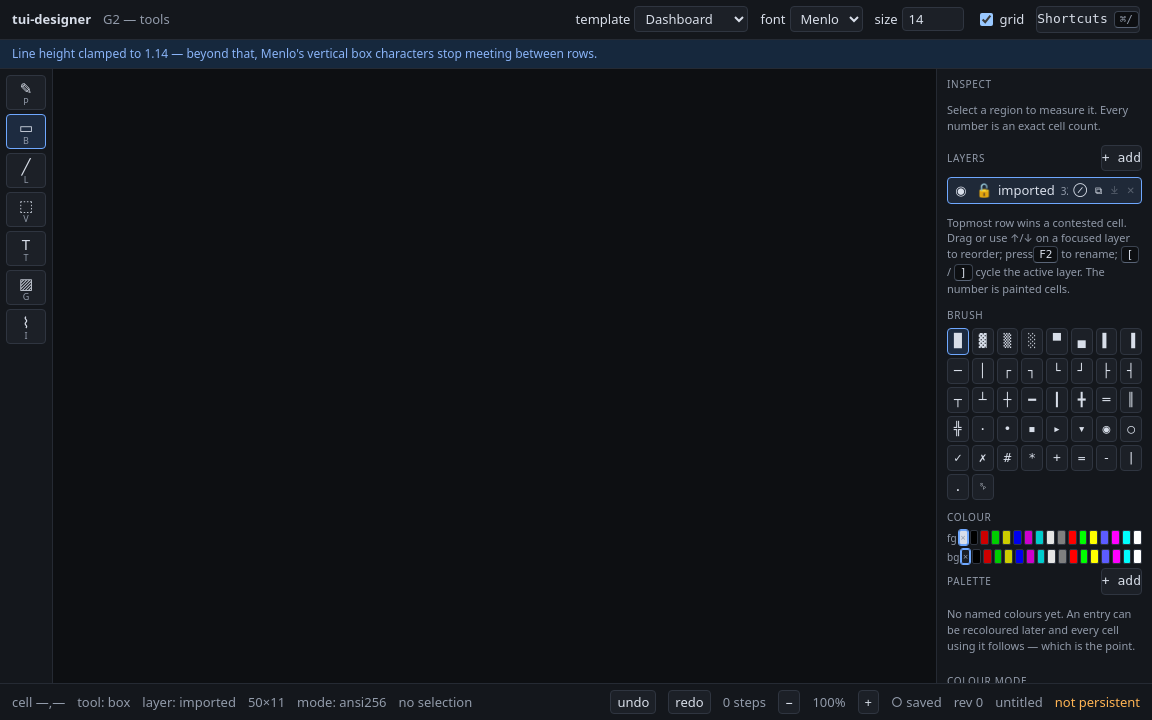
Test: App component boundary › opens generated searchable command help with current availability
Click the button with aria-label "Keyboard shortcuts (⌘/)" at (1088, 19), box [1036,6,1140,32]
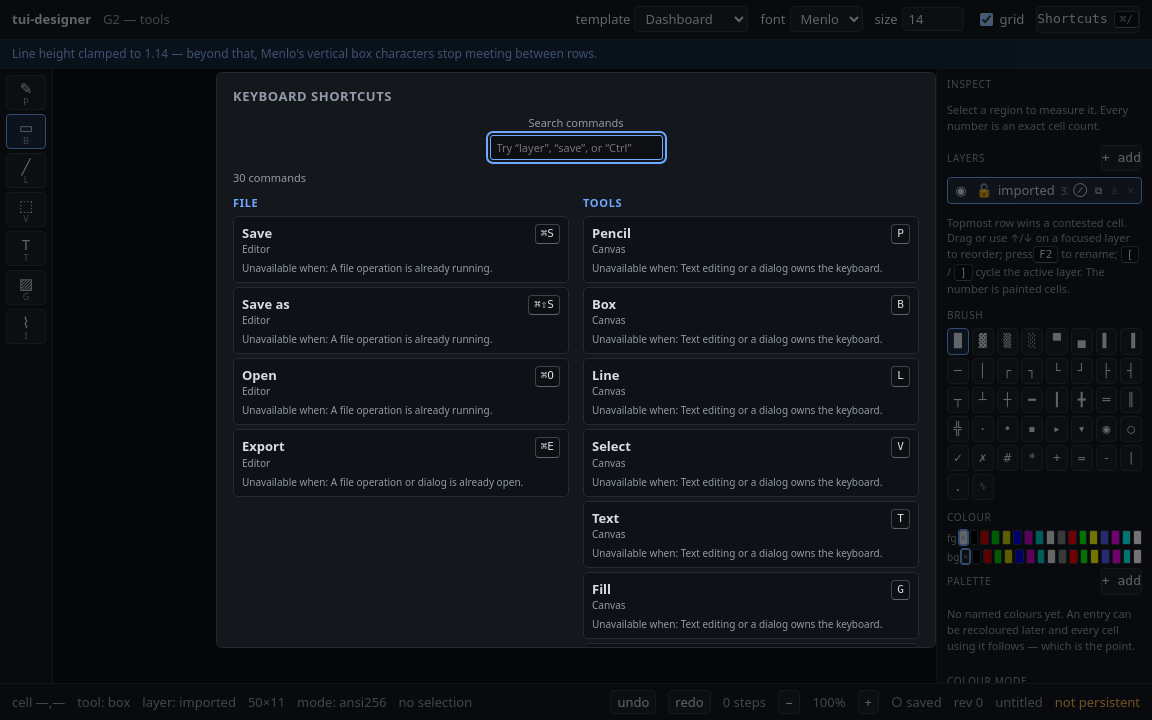
Result: the text "Save" is shown at [242,224,272,242]
Type "layer" into the search field labelled "Search commands" at (576, 147), box [490,135,662,160]
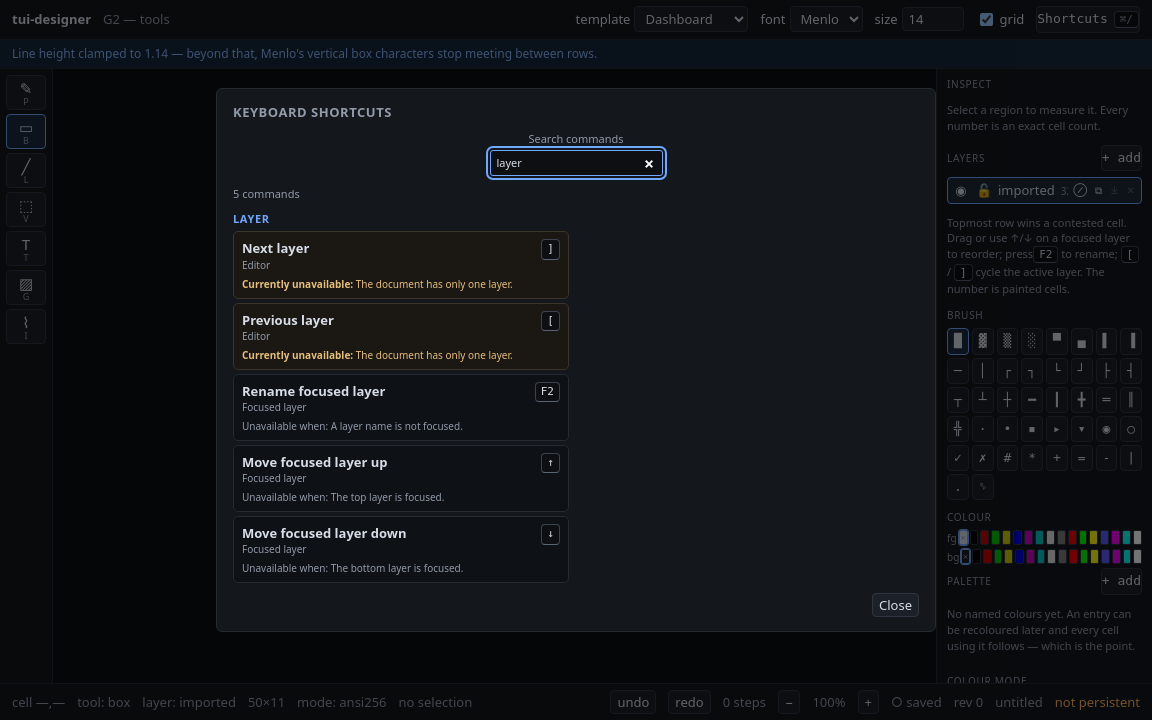
Result: the text "5 commands" is shown at [233,186,300,200]
Result: the text "Move focused layer up" is shown at [242,453,388,471]
Press Escape
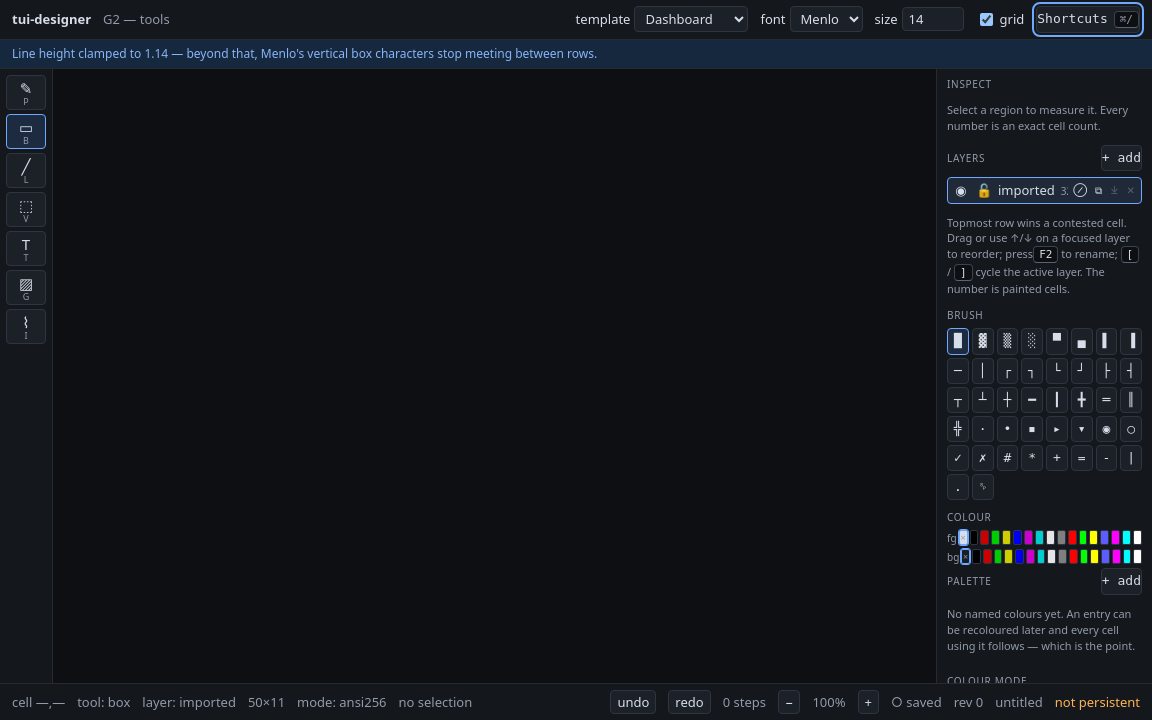
Result: the heading "Keyboard shortcuts" is gone
